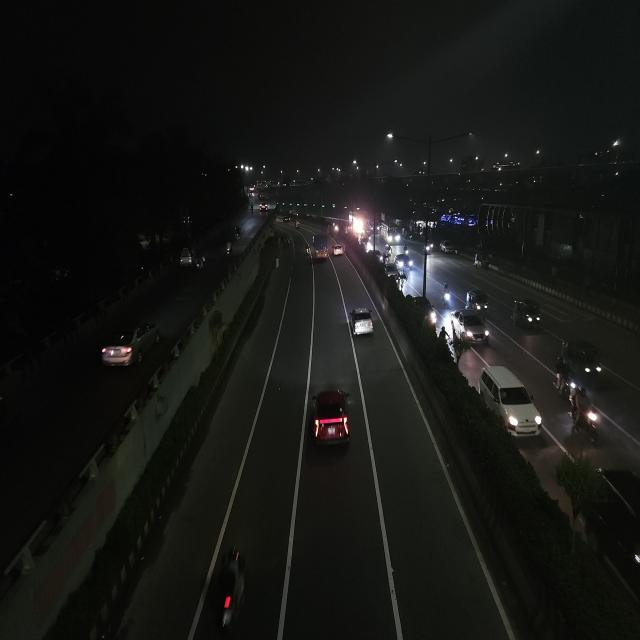bus: (383, 220, 403, 246)
car: (476, 363, 546, 445), (100, 316, 162, 374), (308, 385, 356, 459), (451, 308, 491, 345), (406, 290, 438, 332), (350, 305, 376, 340), (394, 251, 414, 272), (384, 262, 400, 281), (440, 240, 456, 256), (331, 241, 344, 258)
cng: (510, 295, 546, 334), (565, 344, 602, 381), (464, 287, 491, 316), (473, 252, 490, 273), (178, 246, 194, 268)
motorcycle: (566, 384, 604, 446), (551, 356, 577, 401), (440, 280, 454, 309), (437, 322, 449, 353), (224, 240, 235, 260), (232, 224, 242, 242)
truck: (313, 235, 330, 262)
